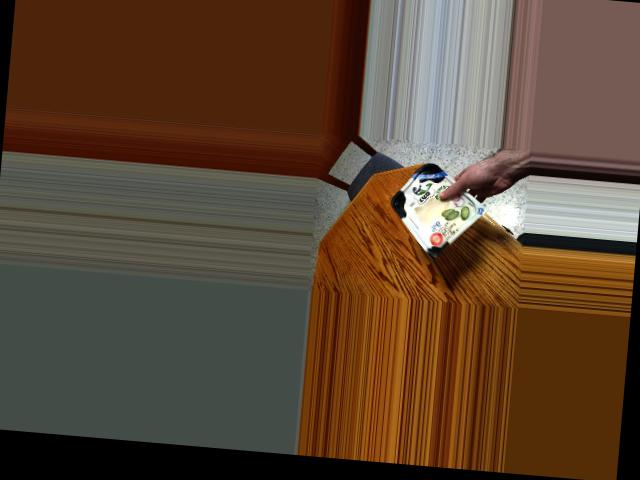cheese: (399, 165, 460, 250)
